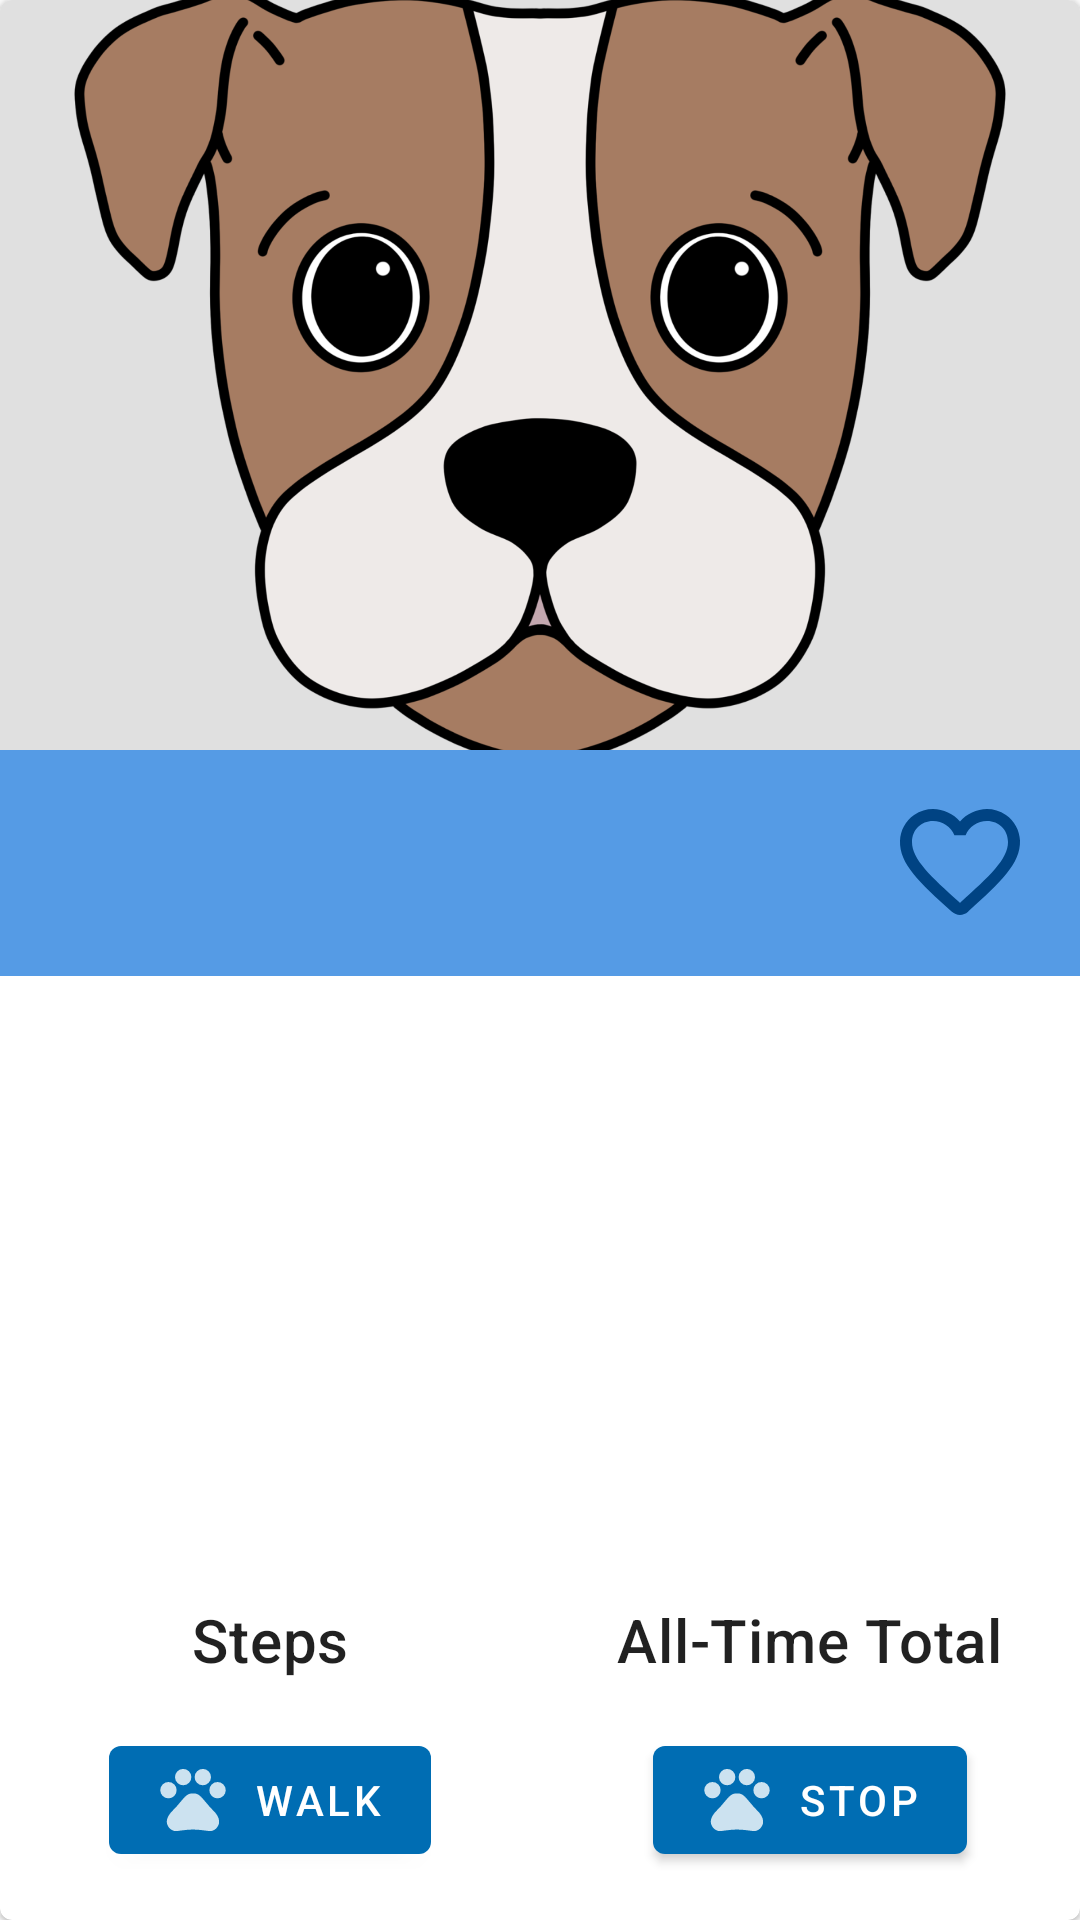

Where icons sit on this 1080px x 1920px app screen, as (x1, y1, x2, y2):
favorite: (900, 809, 1020, 915)
